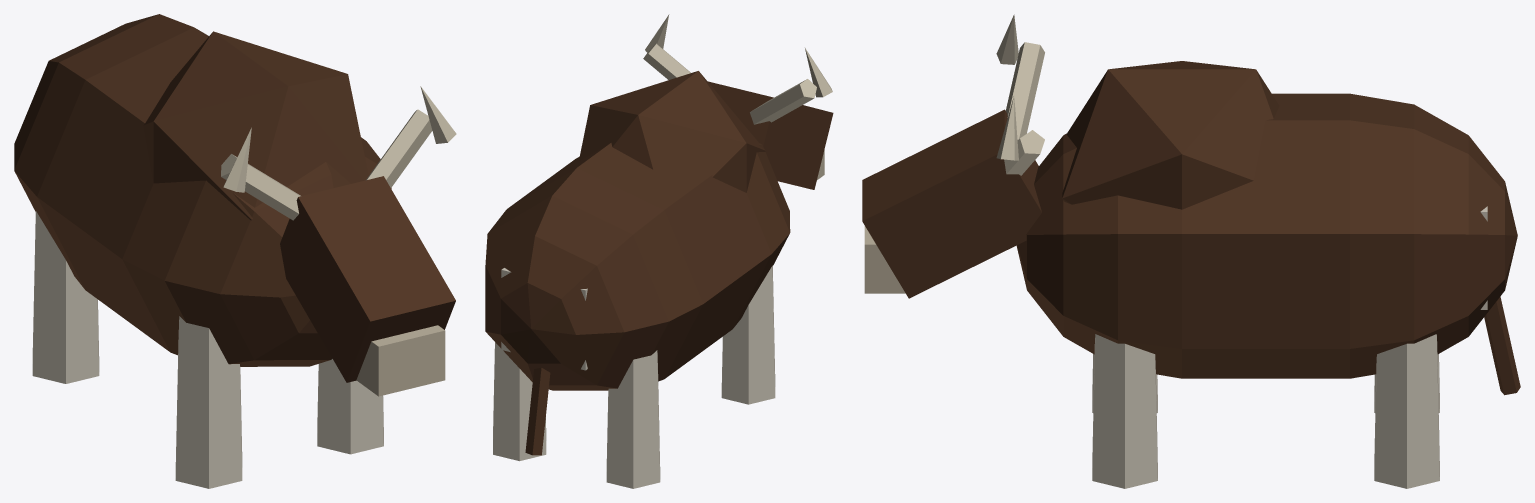
The model's file is banteng.glb.
3 views of the same model, side by side, from view 1: azimuth 30°, elevation 25°; view 2: azimuth 150°, elevation 25°; view 3: azimuth 270°, elevation 25° (orthographic). The views are drawn at different scales.
Visible parts, largest first — view 1: kbs_banteng, object 2; view 2: kbs_banteng, object 2; view 3: kbs_banteng, object 2.
Part boxes in pixels (left/top/right/bottom): kbs_banteng: left=14, top=14, right=391, bottom=488; object 2: left=221, top=86, right=456, bottom=396; kbs_banteng: left=485, top=71, right=790, bottom=488; object 2: left=643, top=14, right=833, bottom=189; kbs_banteng: left=1016, top=61, right=1520, bottom=488; object 2: left=862, top=14, right=1044, bottom=298.
Bounding box in the file's own units: 1.05 × 1.6 × 2.48.
